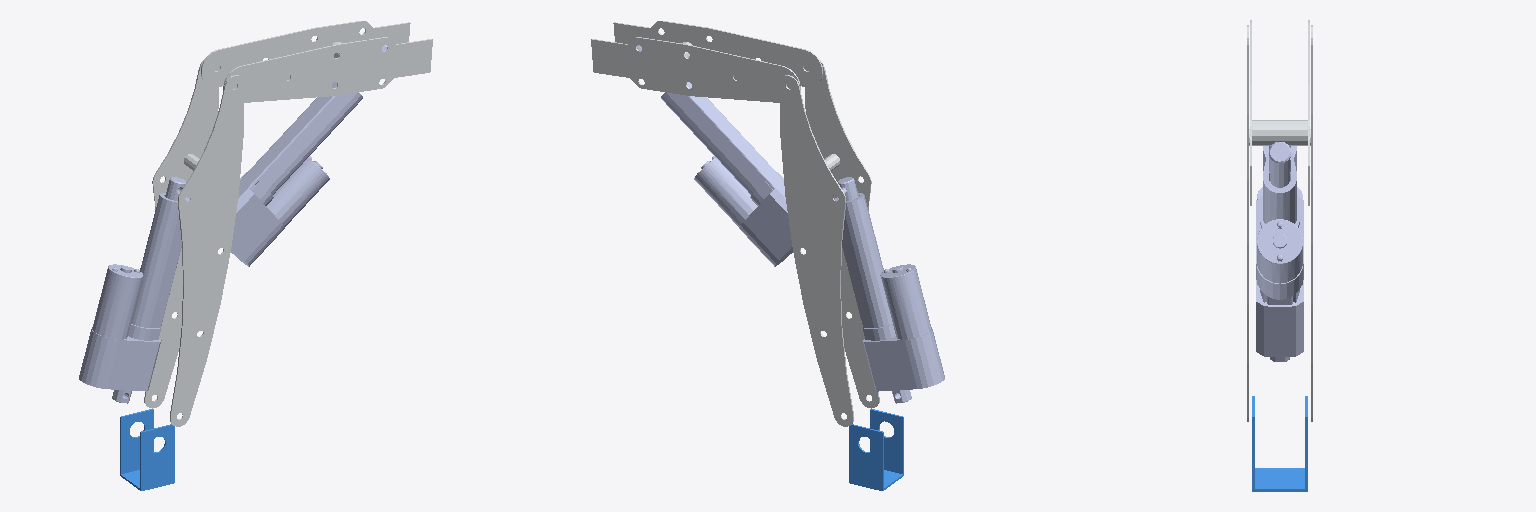
URDF robot description (arm_v3):
<?xml version="1.0" encoding="utf-8"?>
<!-- This URDF was automatically created by SolidWorks to URDF Exporter! Originally created by Stephen Brawner (brawner@gmail.com) 
     Commit Version: 1.6.0-4-g7f85cfe  Build Version: 1.6.7995.38578
     For more information, please see http://wiki.ros.org/sw_urdf_exporter -->
<robot
  name="arm_v3">
  <link
    name="base_link">
    <inertial>
      <origin
        xyz="0 4.86187138273593E-18 0.0325"
        rpy="0 0 0" />
      <mass
        value="1.26223302335012" />
      <inertia
        ixx="0.00278940349899718"
        ixy="3.0463870585319E-37"
        ixz="-7.86275503544723E-36"
        iyy="0.00278940349899718"
        iyz="-1.44135783627155E-35"
        izz="0.00468998457738531" />
    </inertial>
    <visual>
      <origin
        xyz="0 0 0"
        rpy="0 0 0" />
      <geometry>
        <mesh
          filename="package://arm_v3/meshes/base_link.STL" />
      </geometry>
      <material
        name="">
        <color
          rgba="0.341176470588235 0.666666666666667 1 1" />
      </material>
    </visual>
    <collision>
      <origin
        xyz="0 0 0"
        rpy="0 0 0" />
      <geometry>
        <mesh
          filename="package://arm_v3/meshes/base_link.STL" />
      </geometry>
    </collision>
  </link>
  <link
    name="bracket_link">
    <inertial>
      <origin
        xyz="3.1709E-05 -7.6273E-18 0.021174"
        rpy="0 0 0" />
      <mass
        value="0.1844" />
      <inertia
        ixx="0.00016429"
        ixy="-5.4545E-20"
        ixz="-1.128E-06"
        iyy="0.00012823"
        iyz="-3.9826E-20"
        izz="0.00017784" />
    </inertial>
    <visual>
      <origin
        xyz="0 0 0"
        rpy="0 0 0" />
      <geometry>
        <mesh
          filename="package://arm_v3/meshes/bracket_link.STL" />
      </geometry>
      <material
        name="">
        <color
          rgba="0.89804 0.91765 0.92941 1" />
      </material>
    </visual>
    <collision>
      <origin
        xyz="0 0 0"
        rpy="0 0 0" />
      <geometry>
        <mesh
          filename="package://arm_v3/meshes/bracket_link.STL" />
      </geometry>
    </collision>
  </link>
  <joint
    name="bracket_joint"
    type="revolute">
    <origin
      xyz="0 0 0.056"
      rpy="0 0 0" />
    <parent
      link="base_link" />
    <child
      link="bracket_link" />
    <axis
      xyz="0 0 1" />
    <limit
      lower="-1.5"
      upper="1.5"
      effort="0"
      velocity="0" />
    <dynamics
      damping="0.05"
      friction="0.1" />
  </joint>
  <link
    name="actuator_humerus_link">
    <inertial>
      <origin
        xyz="0.011121 -1.0154E-16 0.085657"
        rpy="0 0 0" />
      <mass
        value="0.39053" />
      <inertia
        ixx="0.0011176"
        ixy="1.5935E-19"
        ixz="-0.00036038"
        iyy="0.0014183"
        iyz="4.0359E-19"
        izz="0.00038735" />
    </inertial>
    <visual>
      <origin
        xyz="0 0 0"
        rpy="0 0 0" />
      <geometry>
        <mesh
          filename="package://arm_v3/meshes/actuator_humerus_link.STL" />
      </geometry>
      <material
        name="">
        <color
          rgba="0.79216 0.81961 0.93333 1" />
      </material>
    </visual>
    <collision>
      <origin
        xyz="0 0 0"
        rpy="0 0 0" />
      <geometry>
        <mesh
          filename="package://arm_v3/meshes/actuator_humerus_link.STL" />
      </geometry>
    </collision>
  </link>
  <joint
    name="actuator_humerus_joint"
    type="revolute">
    <origin
      xyz="-0.0318 0 0.056875"
      rpy="0 0 0" />
    <parent
      link="bracket_link" />
    <child
      link="actuator_humerus_link" />
    <axis
      xyz="0 1 0" />
    <limit
      lower="-1.5"
      upper="1.5"
      effort="0"
      velocity="0" />
    <dynamics
      damping="0.05"
      friction="0.1" />
  </joint>
  <link
    name="shaft_humerus_link">
    <inertial>
      <origin
        xyz="0.027112 -4.8418E-07 0.086476"
        rpy="0 0 0" />
      <mass
        value="0.056658" />
      <inertia
        ixx="0.00014354"
        ixy="6.9298E-10"
        ixz="-4.4114E-05"
        iyy="0.0001574"
        iyz="2.2122E-09"
        izz="1.6664E-05" />
    </inertial>
    <visual>
      <origin
        xyz="0 0 0"
        rpy="0 0 0" />
      <geometry>
        <mesh
          filename="package://arm_v3/meshes/shaft_humerus_link.STL" />
      </geometry>
      <material
        name="">
        <color
          rgba="0.79216 0.81961 0.93333 1" />
      </material>
    </visual>
    <collision>
      <origin
        xyz="0 0 0"
        rpy="0 0 0" />
      <geometry>
        <mesh
          filename="package://arm_v3/meshes/shaft_humerus_link.STL" />
      </geometry>
    </collision>
  </link>
  <joint
    name="shaft_humerus_joint"
    type="prismatic">
    <origin
      xyz="0.020961 0 0.066857"
      rpy="0 0 0" />
    <parent
      link="actuator_humerus_link" />
    <child
      link="shaft_humerus_link" />
    <axis
      xyz="0.29917 0 0.9542" />
    <limit
      lower="0"
      upper="0.3"
      effort="0"
      velocity="0" />
    <dynamics
      damping="0.1"
      friction="0.25" />
  </joint>
  <link
    name="humerus_link">
    <inertial>
      <origin
        xyz="0.04161 -0.027 0.21154"
        rpy="0 0 0" />
      <mass
        value="0.23656" />
      <inertia
        ixx="0.0024284"
        ixy="5.5605E-18"
        ixz="-0.0003857"
        iyy="0.0023823"
        iyz="-4.177E-19"
        izz="0.00029595" />
    </inertial>
    <visual>
      <origin
        xyz="0 0 0"
        rpy="0 0 0" />
      <geometry>
        <mesh
          filename="package://arm_v3/meshes/humerus_link.STL" />
      </geometry>
      <material
        name="">
        <color
          rgba="0.89804 0.91765 0.92941 1" />
      </material>
    </visual>
    <collision>
      <origin
        xyz="0 0 0"
        rpy="0 0 0" />
      <geometry>
        <mesh
          filename="package://arm_v3/meshes/humerus_link.STL" />
      </geometry>
    </collision>
  </link>
  <joint
    name="humerus_low_joint"
    type="revolute">
    <origin
      xyz="0.02545 0.027 0.0267"
      rpy="0 0 0" />
    <parent
      link="bracket_link" />
    <child
      link="humerus_link" />
    <axis
      xyz="0 -1 0" />
    <limit
      lower="-1.5"
      upper="1.5"
      effort="0"
      velocity="0" />
    <dynamics
      damping="0.05"
      friction="0.1" />
  </joint>
  <link
    name="forearm_link">
    <inertial>
      <origin
        xyz="0.19879 -0.024 0.018541"
        rpy="0 0 0" />
      <mass
        value="0.45893" />
      <inertia
        ixx="0.00028894"
        ixy="-1.0051E-19"
        ixz="-0.0002455"
        iyy="0.0027995"
        iyz="-8.635E-21"
        izz="0.0028992" />
    </inertial>
    <visual>
      <origin
        xyz="0 0 0"
        rpy="0 0 0" />
      <geometry>
        <mesh
          filename="package://arm_v3/meshes/forearm_link.STL" />
      </geometry>
      <material
        name="">
        <color
          rgba="0.89804 0.91765 0.92941 1" />
      </material>
    </visual>
    <collision>
      <origin
        xyz="0 0 0"
        rpy="0 0 0" />
      <geometry>
        <mesh
          filename="package://arm_v3/meshes/forearm_link.STL" />
      </geometry>
    </collision>
  </link>
  <joint
    name="forearm_low_joint"
    type="revolute">
    <origin
      xyz="0.078419 -0.003 0.38581"
      rpy="0 0 0" />
    <parent
      link="humerus_link" />
    <child
      link="forearm_link" />
    <axis
      xyz="0 1 0" />
    <limit
      lower="-1.5"
      upper="1.5"
      effort="0"
      velocity="0" />
    <dynamics
      damping="0.05"
      friction="0.1" />
  </joint>
  <link
    name="ubracket_link">
    <inertial>
      <origin
        xyz="0.012798 -0.021625 0.0011934"
        rpy="0 0 0" />
      <mass
        value="0.0069614" />
      <inertia
        ixx="3.3371E-06"
        ixy="3.4941E-21"
        ixz="-2.8436E-08"
        iyy="1.6083E-06"
        iyz="-3.1702E-21"
        izz="3.6394E-06" />
    </inertial>
    <visual>
      <origin
        xyz="0 0 0"
        rpy="0 0 0" />
      <geometry>
        <mesh
          filename="package://arm_v3/meshes/ubracket_link.STL" />
      </geometry>
      <material
        name="">
        <color
          rgba="0.79216 0.81961 0.93333 1" />
      </material>
    </visual>
    <collision>
      <origin
        xyz="0 0 0"
        rpy="0 0 0" />
      <geometry>
        <mesh
          filename="package://arm_v3/meshes/ubracket_link.STL" />
      </geometry>
    </collision>
  </link>
  <joint
    name="ubracket_joint"
    type="revolute">
    <origin
      xyz="0.31277 -0.002375 0.029164"
      rpy="0 0 0" />
    <parent
      link="forearm_link" />
    <child
      link="ubracket_link" />
    <axis
      xyz="0 1 0" />
    <limit
      lower="-0.8"
      upper="0.8"
      effort="0"
      velocity="0" />
    <dynamics
      damping="0.05"
      friction="0.1" />
  </joint>
  <link
    name="endeffector_link">
    <inertial>
      <origin
        xyz="0.070675 -2.0417E-16 0.0065901"
        rpy="0 0 0" />
      <mass
        value="0.069773" />
      <inertia
        ixx="9.2829E-06"
        ixy="3.0953E-19"
        ixz="-1.0257E-05"
        iyy="0.00011854"
        iyz="3.0509E-20"
        izz="0.00011833" />
    </inertial>
    <visual>
      <origin
        xyz="0 0 0"
        rpy="0 0 0" />
      <geometry>
        <mesh
          filename="package://arm_v3/meshes/endeffector_link.STL" />
      </geometry>
      <material
        name="">
        <color
          rgba="0.31765 0.96863 1 1" />
      </material>
    </visual>
    <collision>
      <origin
        xyz="0 0 0"
        rpy="0 0 0" />
      <geometry>
        <mesh
          filename="package://arm_v3/meshes/endeffector_link.STL" />
      </geometry>
    </collision>
  </link>
  <joint
    name="endeffector_joint"
    type="revolute">
    <origin
      xyz="0.014935 -0.021625 0.0013926"
      rpy="0 0 0" />
    <parent
      link="ubracket_link" />
    <child
      link="endeffector_link" />
    <axis
      xyz="0.99568 0 0.092843" />
    <limit
      lower="-4.5"
      upper="4.5"
      effort="0"
      velocity="0" />
    <dynamics
      damping="0.05"
      friction="0.1" />
  </joint>
  <link
    name="right_gear_link">
    <inertial>
      <origin
        xyz="5.5511E-17 -0.0043853 0"
        rpy="0 0 0" />
      <mass
        value="0.0049909" />
      <inertia
        ixx="6.4636E-07"
        ixy="7.9577E-23"
        ixz="-1.0501E-22"
        iyy="1.2819E-06"
        iyz="-6.4763E-23"
        izz="6.4636E-07" />
    </inertial>
    <visual>
      <origin
        xyz="0 0 0"
        rpy="0 0 0" />
      <geometry>
        <mesh
          filename="package://arm_v3/meshes/right_gear_link.STL" />
      </geometry>
      <material
        name="">
        <color
          rgba="0.65882 0.37647 1 1" />
      </material>
    </visual>
    <collision>
      <origin
        xyz="0 0 0"
        rpy="0 0 0" />
      <geometry>
        <mesh
          filename="package://arm_v3/meshes/right_gear_link.STL" />
      </geometry>
    </collision>
  </link>
  <joint
    name="right_gear_joint"
    type="continuous">
    <origin
      xyz="0.31277 -0.0545 0.029164"
      rpy="0 0 0" />
    <parent
      link="forearm_link" />
    <child
      link="right_gear_link" />
    <axis
      xyz="0 1 0" />
    <dynamics
      damping="0.05"
      friction="0.1" />
  </joint>
  <link
    name="left_gear_link">
    <inertial>
      <origin
        xyz="-5.5511E-17 0.0043853 0"
        rpy="0 0 0" />
      <mass
        value="0.0049909" />
      <inertia
        ixx="6.4636E-07"
        ixy="1.7375E-23"
        ixz="4.1275E-22"
        iyy="1.2819E-06"
        iyz="-3.7651E-23"
        izz="6.4636E-07" />
    </inertial>
    <visual>
      <origin
        xyz="0 0 0"
        rpy="0 0 0" />
      <geometry>
        <mesh
          filename="package://arm_v3/meshes/left_gear_link.STL" />
      </geometry>
      <material
        name="">
        <color
          rgba="0.65882 0.37647 1 1" />
      </material>
    </visual>
    <collision>
      <origin
        xyz="0 0 0"
        rpy="0 0 0" />
      <geometry>
        <mesh
          filename="package://arm_v3/meshes/left_gear_link.STL" />
      </geometry>
    </collision>
  </link>
  <joint
    name="left_gear_joint"
    type="continuous">
    <origin
      xyz="0.31277 0.0065 0.029164"
      rpy="0 0 0" />
    <parent
      link="forearm_link" />
    <child
      link="left_gear_link" />
    <axis
      xyz="0 1 0" />
    <dynamics
      damping="0.05"
      friction="0.1" />
  </joint>
  <link
    name="actuator_forearm_link">
    <inertial>
      <origin
        xyz="0.072776 -0.00889 0.046522"
        rpy="0 0 0" />
      <mass
        value="0.39053" />
      <inertia
        ixx="0.00079725"
        ixy="-1.2958E-19"
        ixz="-0.00051106"
        iyy="0.0014183"
        iyz="-8.6669E-20"
        izz="0.00070768" />
    </inertial>
    <visual>
      <origin
        xyz="0 0 0"
        rpy="0 0 0" />
      <geometry>
        <mesh
          filename="package://arm_v3/meshes/actuator_forearm_link.STL" />
      </geometry>
      <material
        name="">
        <color
          rgba="0.79216 0.81961 0.93333 1" />
      </material>
    </visual>
    <collision>
      <origin
        xyz="0 0 0"
        rpy="0 0 0" />
      <geometry>
        <mesh
          filename="package://arm_v3/meshes/actuator_forearm_link.STL" />
      </geometry>
    </collision>
  </link>
  <joint
    name="actuator_forearm_joint"
    type="revolute">
    <origin
      xyz="0.055873 -0.01811 0.18875"
      rpy="0 0 0" />
    <parent
      link="humerus_link" />
    <child
      link="actuator_forearm_link" />
    <axis
      xyz="0 1 0" />
    <limit
      lower="-1.5"
      upper="1.5"
      effort="0"
      velocity="0" />
    <dynamics
      damping="0.05"
      friction="0.1" />
  </joint>
  <link
    name="shaft_forearm_link">
    <inertial>
      <origin
        xyz="0.066711 -4.8424E-07 0.061341"
        rpy="0 0 0" />
      <mass
        value="0.056658" />
      <inertia
        ixx="7.3632E-05"
        ixy="1.7062E-09"
        ixz="-7.6996E-05"
        iyy="0.0001574"
        iyz="1.5696E-09"
        izz="8.6571E-05" />
    </inertial>
    <visual>
      <origin
        xyz="0 0 0"
        rpy="0 0 0" />
      <geometry>
        <mesh
          filename="package://arm_v3/meshes/shaft_forearm_link.STL" />
      </geometry>
      <material
        name="">
        <color
          rgba="0.79216 0.81961 0.93333 1" />
      </material>
    </visual>
    <collision>
      <origin
        xyz="0 0 0"
        rpy="0 0 0" />
      <geometry>
        <mesh
          filename="package://arm_v3/meshes/shaft_forearm_link.STL" />
      </geometry>
    </collision>
  </link>
  <joint
    name="shaft_forearm_joint"
    type="prismatic">
    <origin
      xyz="0.079687 -0.00889 0.073272"
      rpy="0 0 0" />
    <parent
      link="actuator_forearm_link" />
    <child
      link="shaft_forearm_link" />
    <axis
      xyz="0.73611 0 0.67686" />
    <limit
      lower="0"
      upper="0.3"
      effort="0"
      velocity="0" />
    <dynamics
      damping="0.1"
      friction="0.25" />
  </joint>
  <gazebo>
    <joint name="humerus_extra_joint" type="revolute">
      <pose relative_to='shaft_humerus_link'>0.04861899840 0.027000 0.16824910307 0 0 0</pose>
      <type>revolute</type>
      <parent>shaft_humerus_link</parent>
      <child>humerus_link</child>
      <axis>
        <xyz>0 1 0</xyz>
        <limit>
          <lower>-1.5</lower>
          <upper>1.5</upper>
        </limit>
        <dynamics>
          <damping>0.5</damping>
          <friction>0.05</friction>
          <spring_reference>0</spring_reference>
          <spring_stiffness>100</spring_stiffness>
        </dynamics>
      </axis>
    </joint>
    <joint name="forearm_extra_joint" type="revolute">
      <pose relative_to='shaft_forearm_link'>0.13726375011 0.024000 0.10876686349 0 0 0</pose>
      <type>revolute</type>
      <parent>shaft_forearm_link</parent>
      <child>forearm_link</child>
      <axis>
        <xyz>0 1 0</xyz>
        <limit>
          <lower>-1.5</lower>
          <upper>1.5</upper>
        </limit>
        <dynamics>
          <damping>0.5</damping>
          <friction>0.05</friction>
          <spring_reference>0</spring_reference>
          <spring_stiffness>100</spring_stiffness>
        </dynamics>
      </axis>
    </joint>
  </gazebo>
</robot>

--- Facts derived from the render (not from the file) ---
Views: 3 orthographic renders of the robot side by side, from view 1: azimuth 30°, elevation 25°; view 2: azimuth 150°, elevation 25°; view 3: azimuth 270°, elevation 25°.
Model arm_v3 with 12 links and 11 joints (7 revolute, 2 continuous, 2 prismatic), rooted at base_link, posed all joints at 0.
Visible links, largest first — view 1: humerus_link, forearm_link, actuator_humerus_link, actuator_forearm_link, base_link; view 2: humerus_link, forearm_link, actuator_humerus_link, actuator_forearm_link, base_link; view 3: actuator_forearm_link, actuator_humerus_link, forearm_link, base_link, humerus_link, shaft_forearm_link.
Link boxes in pixels (x1,y1,x2,y2): humerus_link: [144, 59, 244, 426]; forearm_link: [201, 21, 432, 102]; actuator_humerus_link: [79, 193, 189, 403]; actuator_forearm_link: [231, 82, 362, 266]; base_link: [120, 409, 174, 490]; humerus_link: [779, 59, 879, 426]; forearm_link: [591, 21, 822, 102]; actuator_humerus_link: [834, 193, 944, 403]; actuator_forearm_link: [661, 82, 792, 266]; base_link: [849, 409, 903, 490]; actuator_forearm_link: [1256, 153, 1303, 299]; actuator_humerus_link: [1256, 146, 1303, 361]; forearm_link: [1250, 20, 1309, 205]; base_link: [1252, 396, 1307, 491]; humerus_link: [1247, 25, 1312, 421]; shaft_forearm_link: [1269, 142, 1290, 187].
Size in the robot's own frame: 0.435 by 0.058 by 0.4906 metres.
Meshes: 12 distinct files referenced, 7 mesh visuals loaded (7 binary STL); not drawn: 5 (reference not matched to a file when rendering).
